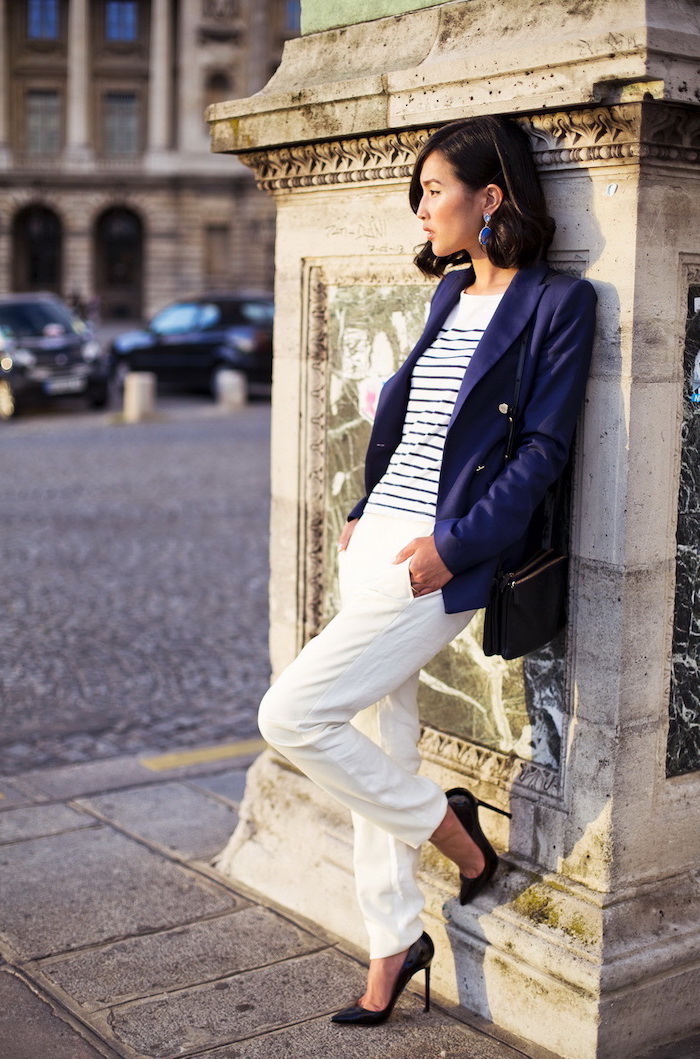F_W_suit jacket: (326, 268, 588, 589)
